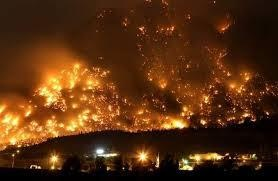fire: (139, 16, 272, 136)
